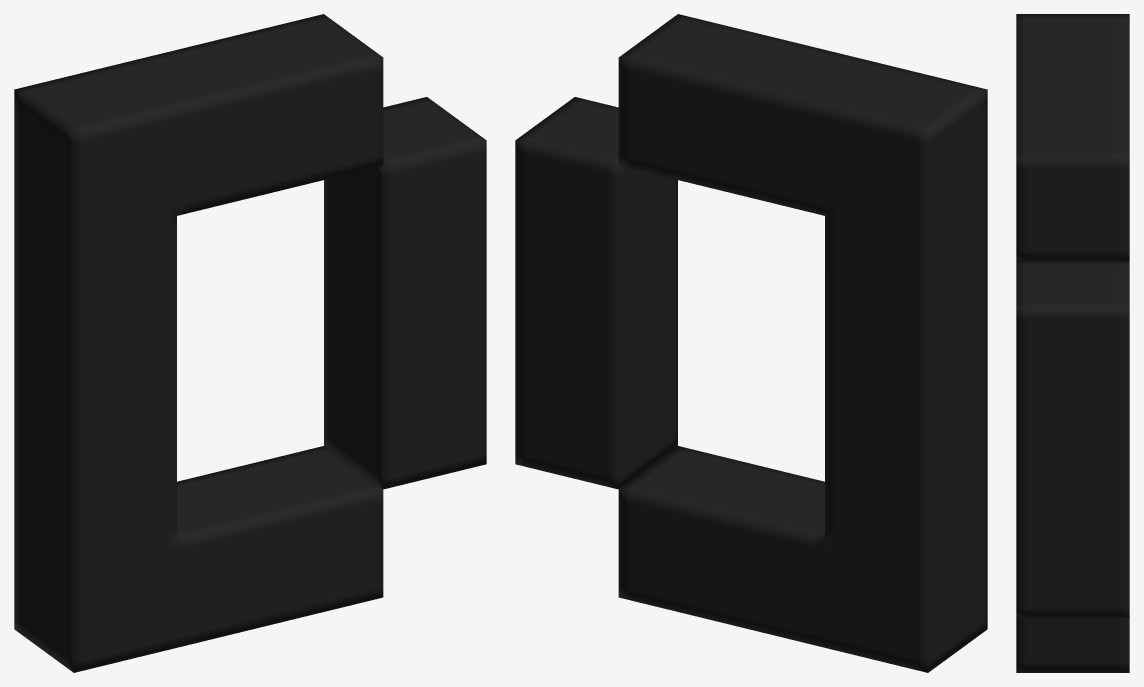
File: font_d.glb
The picture shows the model from 3 angles, left to right: view 1: azimuth 30°, elevation 25°; view 2: azimuth 150°, elevation 25°; view 3: azimuth 270°, elevation 25°; orthographic projection. The views are drawn at different scales.
Visible parts, largest first — view 1: letter_d; view 2: letter_d; view 3: letter_d.
Boxes of the visible parts, <box> form: letter_d: <box>14,14,486,672</box>; letter_d: <box>515,14,987,672</box>; letter_d: <box>1016,14,1129,672</box>.
Bounding box in the file's own units: 0.8 × 1 × 0.2.
Materials: 1 (1 with a texture image).
